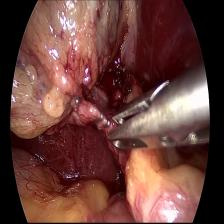Grasper: (107, 66, 202, 167)
